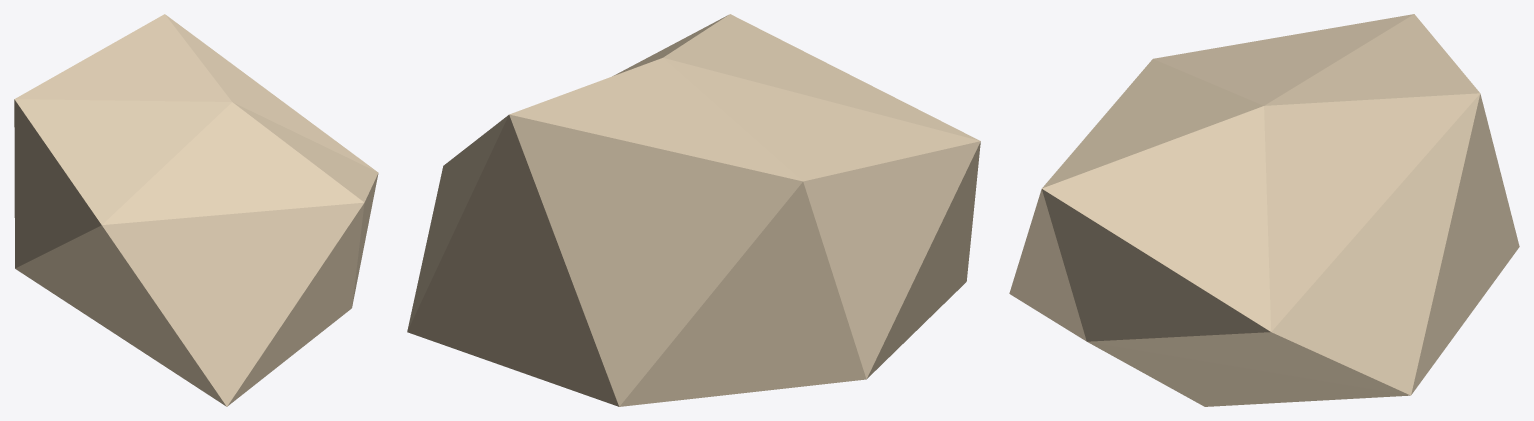
The model's file is rock3.fbx.
3 renders of one model, left to right at view 1: azimuth 30°, elevation 25°; view 2: azimuth 150°, elevation 25°; view 3: azimuth 270°, elevation 25°, orthographic. The views are drawn at different scales.
Visible parts, largest first — view 1: Icosphere; view 2: Icosphere; view 3: Icosphere.
Part boxes in pixels (x1,y1,x2,y2): Icosphere: (14, 14, 378, 406); Icosphere: (407, 14, 980, 406); Icosphere: (1009, 14, 1519, 406).
Bounding box in the file's own units: 229 × 172 × 248.
